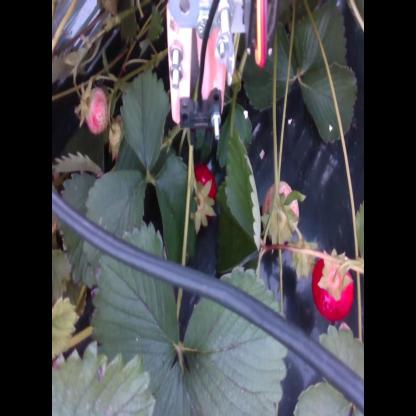ripe: (313, 244, 357, 326), (187, 168, 218, 227), (106, 120, 131, 160), (104, 111, 115, 137)
unripe: (262, 178, 299, 248), (82, 85, 110, 135)
